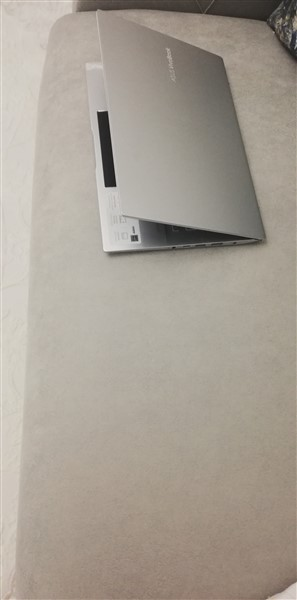laptop: (76, 8, 274, 259)
